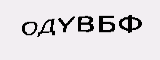Ү: (55, 14, 76, 33)
